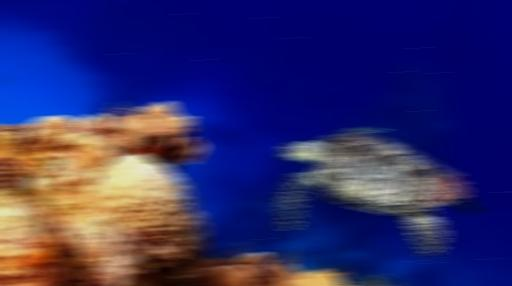Fish: (275, 127, 479, 257)
